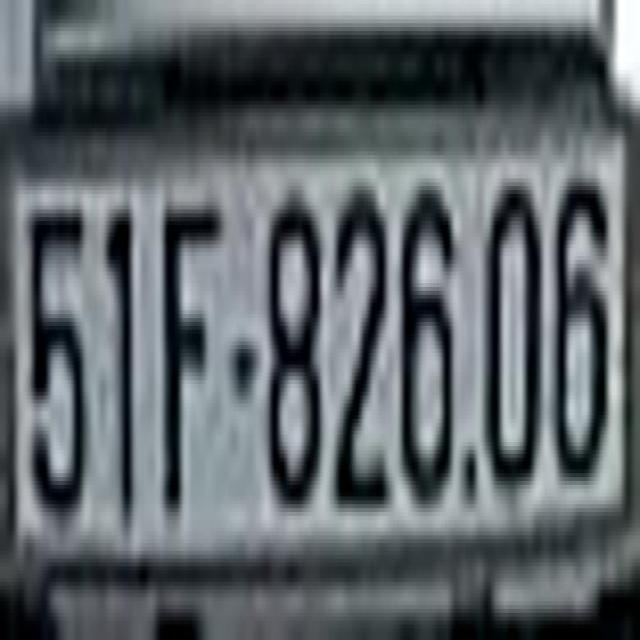0: (492, 178, 540, 484)
1: (106, 190, 137, 524)
2: (330, 178, 386, 496)
5: (30, 198, 86, 528)
6: (558, 171, 606, 477), (402, 182, 450, 481)
8: (268, 198, 318, 504)
F: (157, 170, 225, 528)
